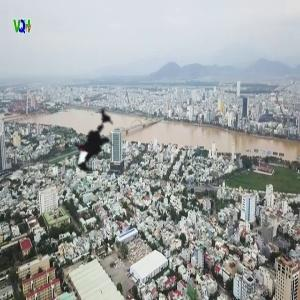drone: (38, 87, 142, 191)
